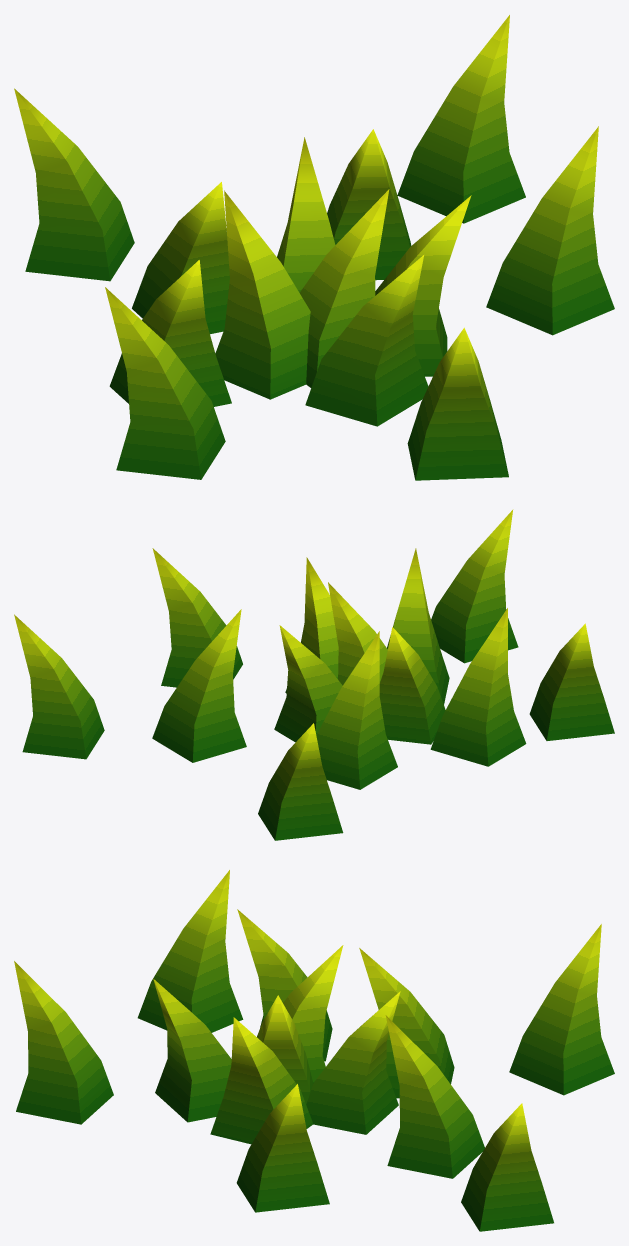
The model's file is grass2.fbx.
3 renders of one model, top to bottom at view 1: azimuth 30°, elevation 25°; view 2: azimuth 150°, elevation 25°; view 3: azimuth 270°, elevation 25°, orthographic. The views are drawn at different scales.
Visible parts, largest first — view 1: grass2; view 2: grass2; view 3: grass2.
Boxes of the visible parts, <box> form: grass2: <box>14,15,614,480</box>; grass2: <box>14,509,614,840</box>; grass2: <box>14,870,614,1231</box>.
Bounding box in the file's own units: 454 × 118 × 482.
